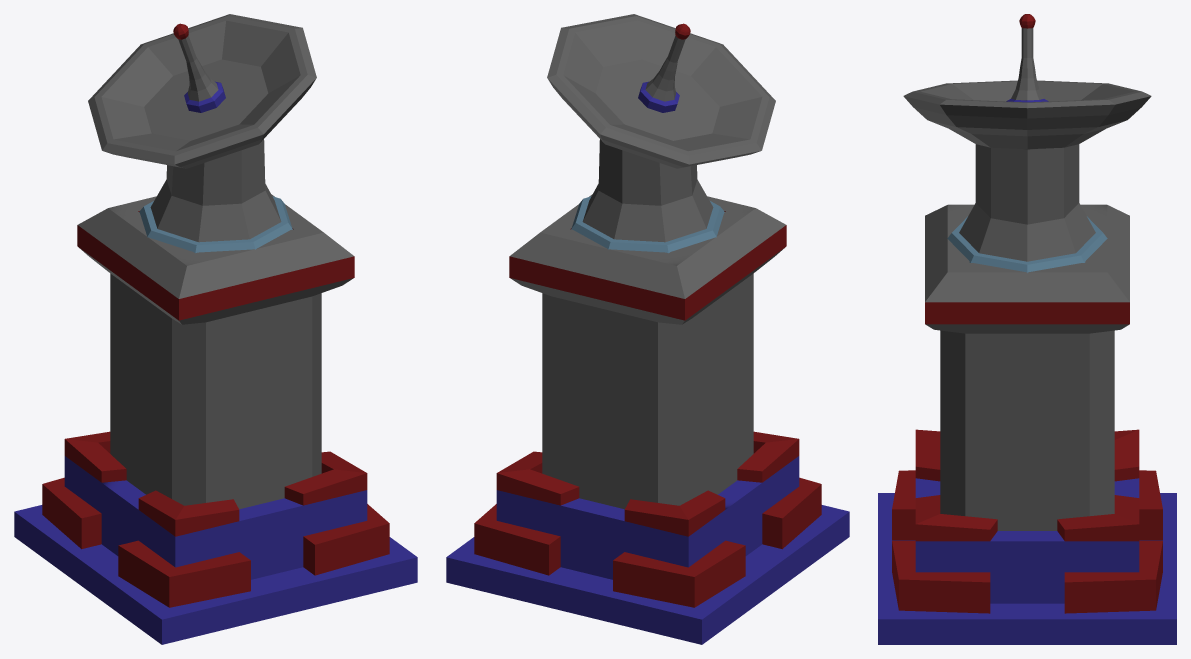
The model's file is WardTower.fbx.
3 views of the same model, side by side, from view 1: azimuth 30°, elevation 25°; view 2: azimuth 150°, elevation 25°; view 3: azimuth 270°, elevation 25° (orthographic).
Visible parts, largest first — view 1: WardBody, WardHead; view 2: WardBody, WardHead; view 3: WardBody, WardHead.
Part boxes in pixels (x1=…): WardBody: x1=14, y1=194, x2=417, y2=644; WardHead: x1=88, y1=14, x2=316, y2=253; WardBody: x1=446, y1=194, x2=849, y2=644; WardHead: x1=547, y1=14, x2=775, y2=253; WardBody: x1=878, y1=204, x2=1176, y2=644; WardHead: x1=903, y1=14, x2=1151, y2=272.
Size of the model in its own units: 2.67 by 2.67 by 5.42.
Materials: 2 (2 with a texture image).
